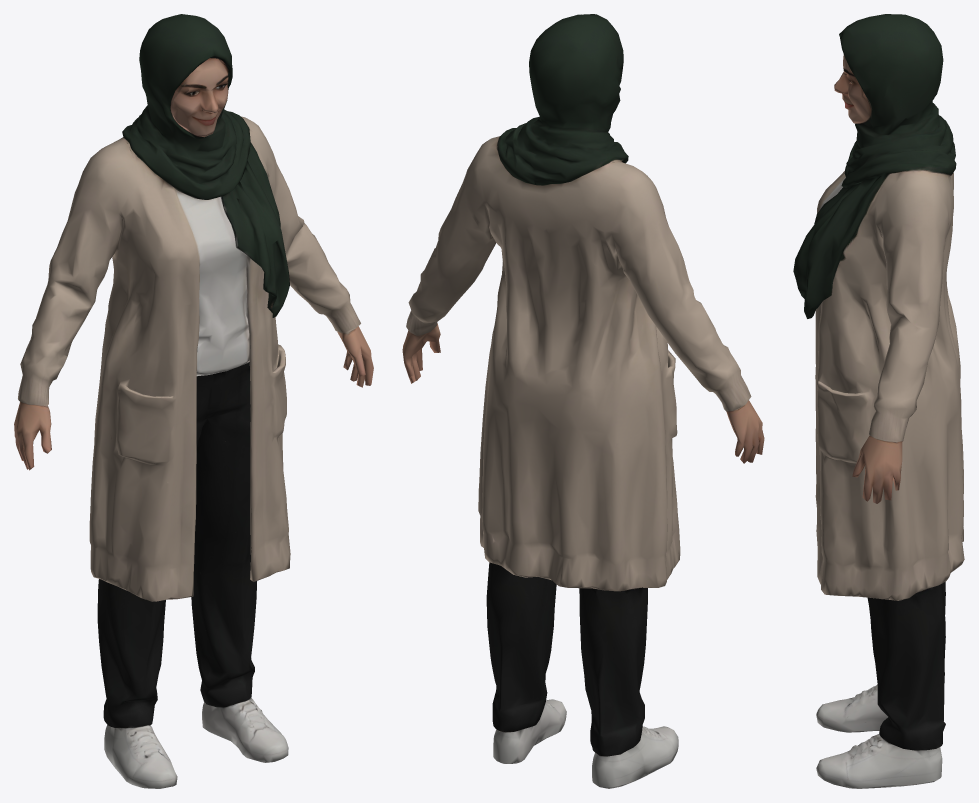
Rendered from npc_hijab.glb.
3 views of the same model, side by side, from view 1: azimuth 30°, elevation 25°; view 2: azimuth 150°, elevation 25°; view 3: azimuth 270°, elevation 25° (orthographic).
Parts seen in each view (by area): view 1: tripo_node_2f1a4f71-386c-476e-9209-ad627883dc58; view 2: tripo_node_2f1a4f71-386c-476e-9209-ad627883dc58; view 3: tripo_node_2f1a4f71-386c-476e-9209-ad627883dc58.
Boxes of the visible parts, x1,y1,x2,y2 form: tripo_node_2f1a4f71-386c-476e-9209-ad627883dc58: [14, 14, 373, 788]; tripo_node_2f1a4f71-386c-476e-9209-ad627883dc58: [402, 14, 764, 788]; tripo_node_2f1a4f71-386c-476e-9209-ad627883dc58: [793, 14, 964, 788].
Bounding box in the file's own units: 0.8761 × 1.75 × 0.3686.
Materials: 1 (1 with a texture image).
